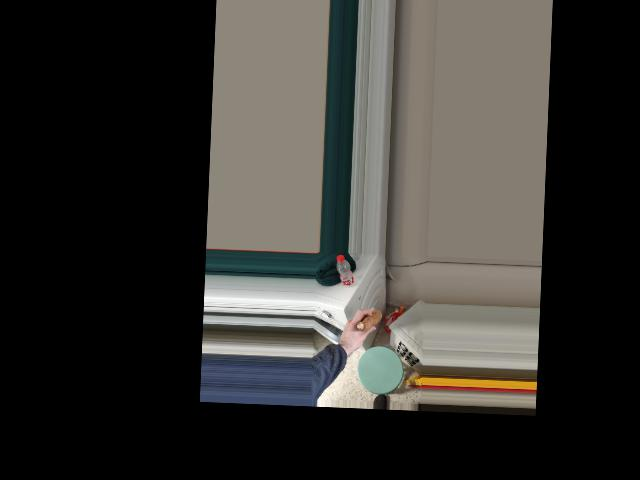sweet_potato: (353, 306, 381, 335)
